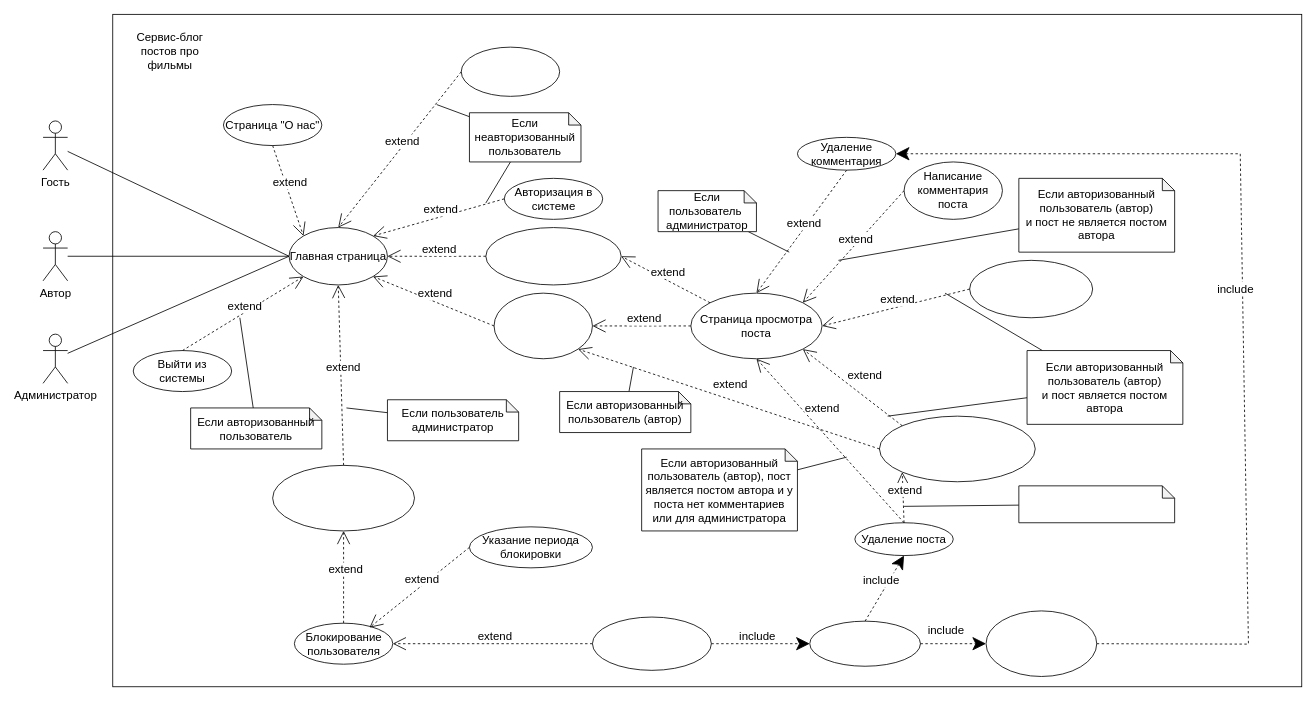
Some shapes in this 1316 by 701 pixel diagram are drawn without their labels. The shapes that lost their labels are listed below. From the top down, each one's box as (x1, y1, x2, y2) in pixels, then its label:
(460, 46, 560, 96): Регистрация в системе
(485, 227, 621, 285): Лента постов
(969, 260, 1093, 318): Написание ответа на комментарии поста
(493, 292, 592, 359): Страница со всеми постами
(879, 415, 1035, 482): Страница редактирование(создания) поста
(272, 465, 415, 531): Страница со списком пользователей в системе.
(1018, 485, 1175, 523): Если нет комментариев
(592, 616, 711, 670): Блокирование пользователя навсегда
(809, 620, 920, 666): Удаление всех постов автора
(985, 610, 1097, 676): Удаление всех комментариев автора под постами
